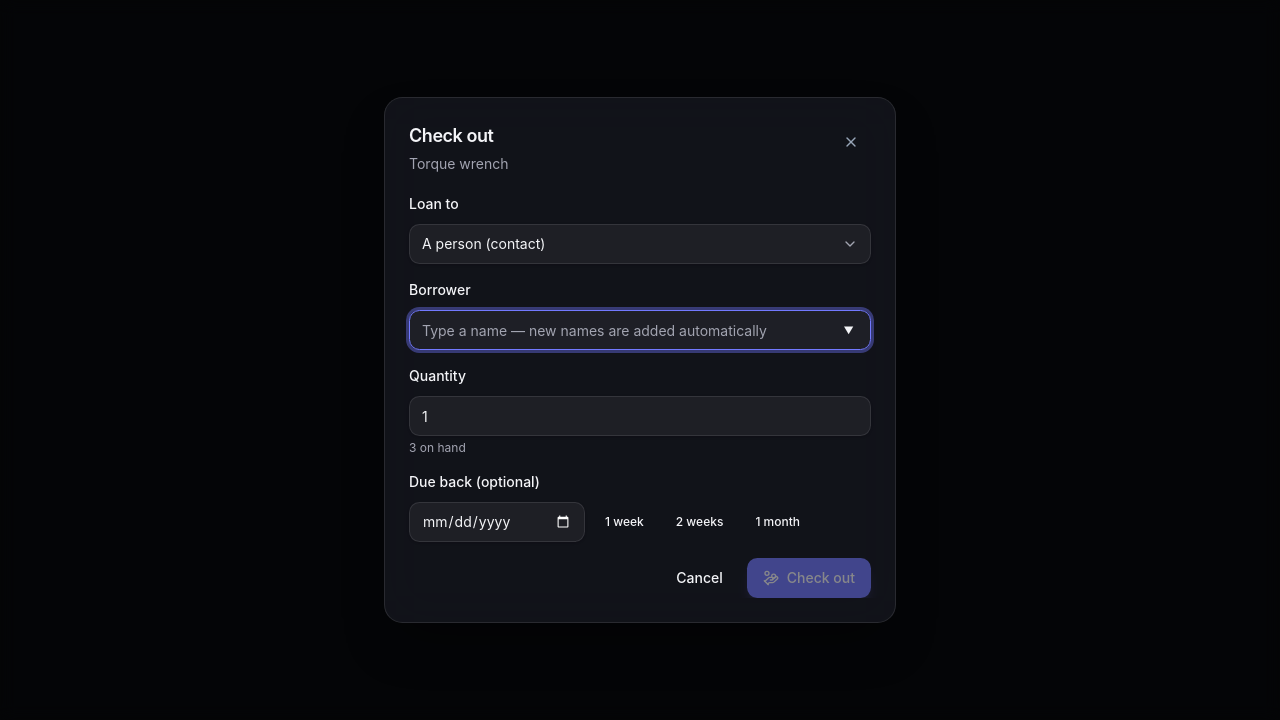
Scenario: CheckoutDialog — loan target is a tagged union (B4) › omits the Project option when the Projects module is off
Click the dropdown named "Loan to" at [640, 244], box [409, 224, 871, 264]
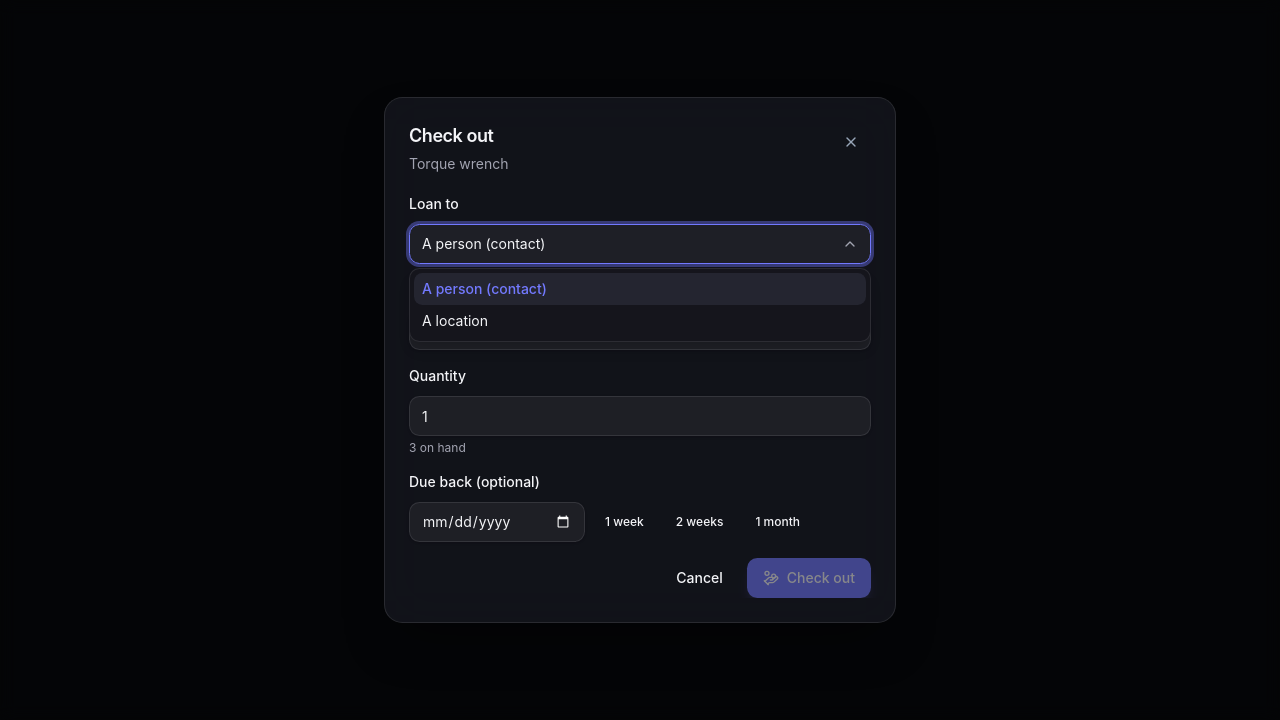
Expected: the option "A location" is shown, [422, 312, 488, 329]
